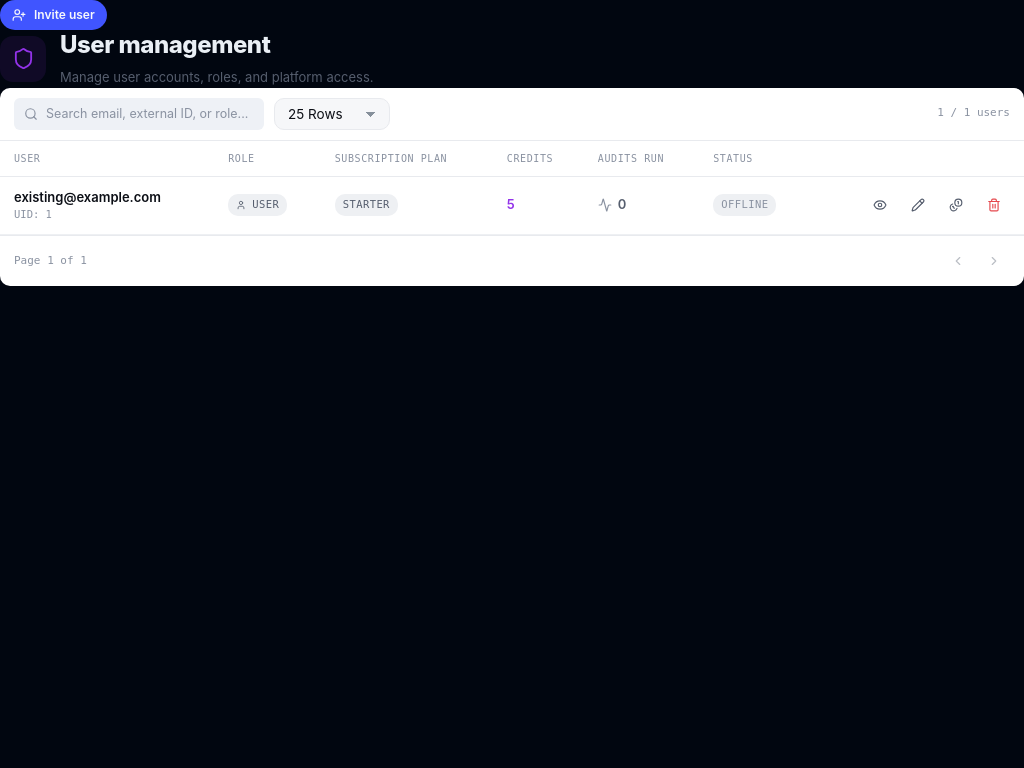
Scenario: AdminUsersPage invite flow › shows an inline error and keeps the modal open when the email already exists
The width and height of the screenshot is (1024, 768).
Expected: the text "existing@example.com" is shown, [14, 188, 161, 204]
Click the button "Invite user". click: (53,15)
box: [0, 0, 107, 30]
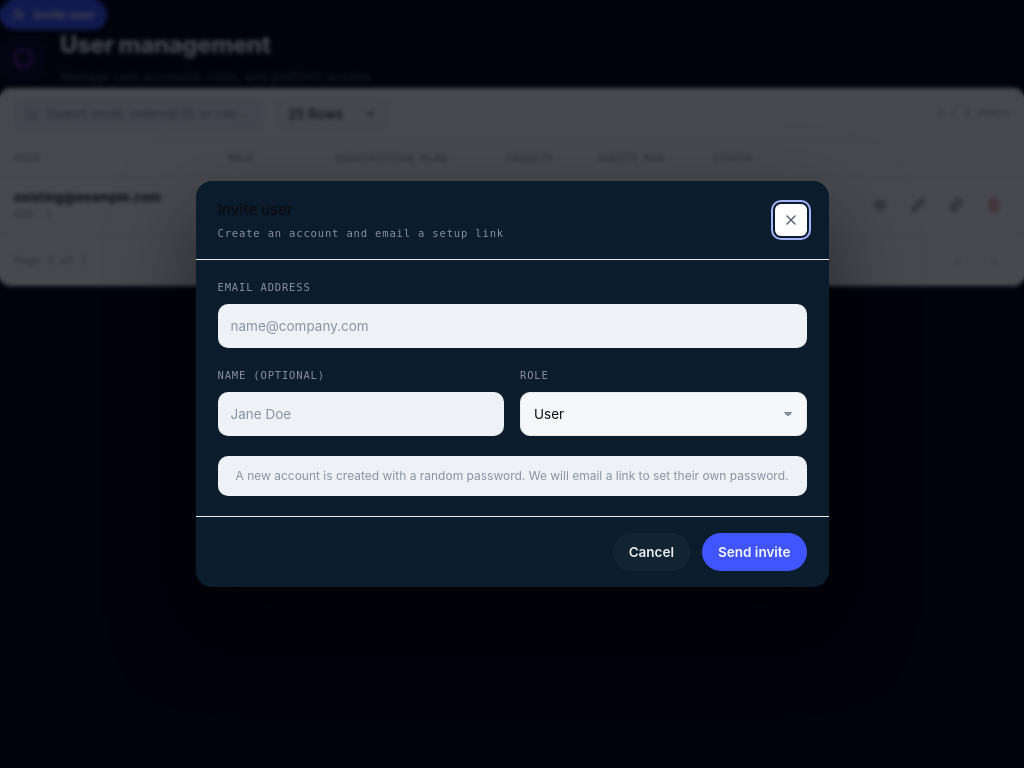
Type "existing@example.com" into the field with placeholder "name@company.com". click: (512,326)
box: [218, 304, 806, 348]
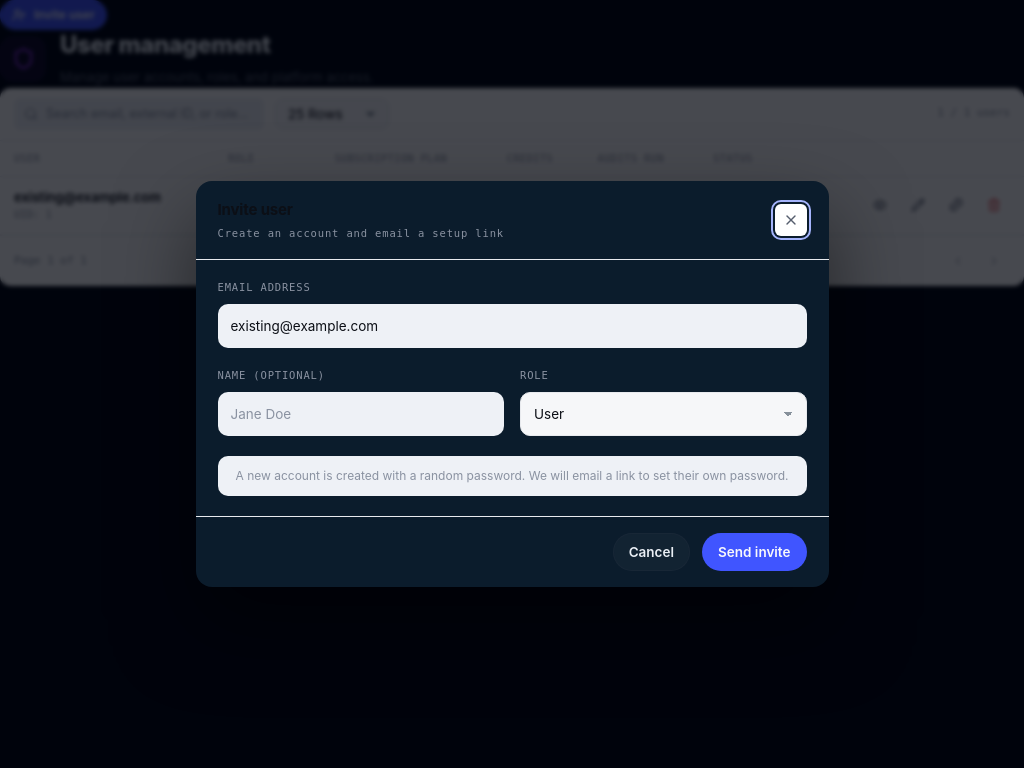
Click the button "Send invite". click: (754,552)
box: [702, 533, 806, 571]
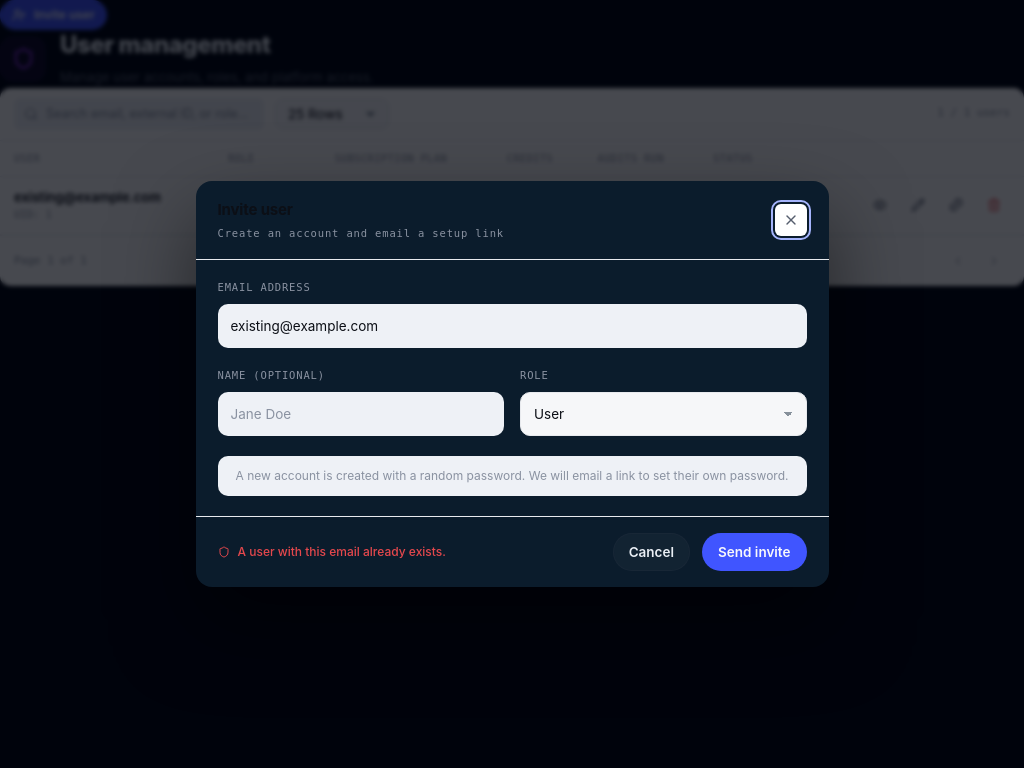
Now the text "A user with this email already exists." is shown, box [218, 544, 446, 559]
